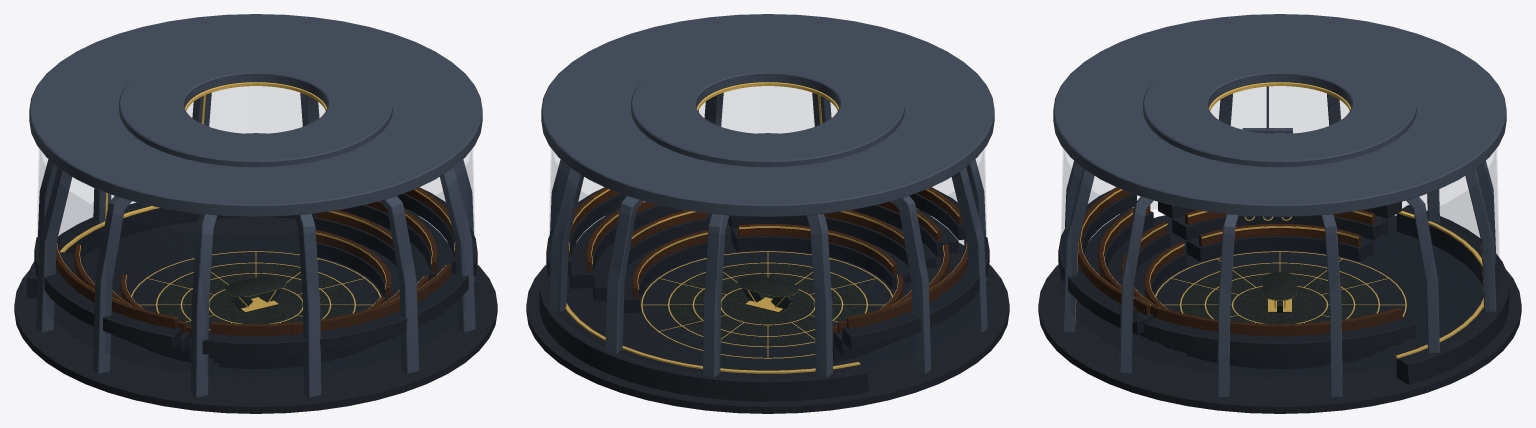
Rendered from apex_forum_room.glb.
3 renders of one model, left to right at view 1: azimuth 30°, elevation 25°; view 2: azimuth 150°, elevation 25°; view 3: azimuth 270°, elevation 25°, orthographic.
Parts seen in each view (by area): view 1: Apex_Maritime_SteelRibs, Apex_Floor_Slate, Apex_Amphitheater_Slate, Apex_Delegate_WalnutDesks, Apex_Floor_ObsidianStage, Apex_Window_Glass, Apex_Architectural_Gold, Apex_Floor_SovereignEmblem, Apex_Table_Obsidian; view 2: Apex_Maritime_SteelRibs, Apex_Amphitheater_Slate, Apex_Floor_Slate, Apex_Delegate_WalnutDesks, Apex_Floor_ObsidianStage, Apex_Architectural_Gold, Apex_Floor_SovereignEmblem, Apex_Window_Glass, Apex_Table_Obsidian; view 3: Apex_Maritime_SteelRibs, Apex_Floor_Slate, Apex_Amphitheater_Slate, Apex_Delegate_WalnutDesks, Apex_Floor_ObsidianStage, Apex_Window_Glass, Apex_Architectural_Gold, Apex_Floor_SovereignEmblem, Apex_Table_Obsidian.
Part boxes in pixels (bbox=[...]): Apex_Maritime_SteelRibs: bbox=[29, 14, 482, 397]; Apex_Floor_Slate: bbox=[14, 217, 497, 413]; Apex_Amphitheater_Slate: bbox=[27, 187, 477, 368]; Apex_Delegate_WalnutDesks: bbox=[56, 187, 455, 338]; Apex_Floor_ObsidianStage: bbox=[157, 263, 354, 331]; Apex_Window_Glass: bbox=[36, 149, 475, 283]; Apex_Architectural_Gold: bbox=[57, 82, 455, 323]; Apex_Floor_SovereignEmblem: bbox=[131, 251, 381, 330]; Apex_Table_Obsidian: bbox=[225, 275, 286, 312]; Apex_Maritime_SteelRibs: bbox=[541, 14, 994, 376]; Apex_Amphitheater_Slate: bbox=[539, 187, 989, 401]; Apex_Floor_Slate: bbox=[526, 222, 1009, 413]; Apex_Delegate_WalnutDesks: bbox=[568, 187, 967, 338]; Apex_Floor_ObsidianStage: bbox=[669, 263, 866, 346]; Apex_Architectural_Gold: bbox=[565, 82, 966, 373]; Apex_Floor_SovereignEmblem: bbox=[641, 251, 892, 358]; Apex_Window_Glass: bbox=[548, 149, 987, 283]; Apex_Table_Obsidian: bbox=[737, 275, 798, 312]; Apex_Maritime_SteelRibs: bbox=[1053, 14, 1506, 396]; Apex_Floor_Slate: bbox=[1038, 215, 1521, 413]; Apex_Amphitheater_Slate: bbox=[1058, 187, 1509, 384]; Apex_Delegate_WalnutDesks: bbox=[1077, 187, 1402, 336]; Apex_Floor_ObsidianStage: bbox=[1181, 263, 1378, 323]; Apex_Window_Glass: bbox=[1060, 149, 1499, 283]; Apex_Architectural_Gold: bbox=[1075, 82, 1484, 358]; Apex_Floor_SovereignEmblem: bbox=[1155, 251, 1406, 323]; Apex_Table_Obsidian: bbox=[1263, 272, 1296, 312].
Size of the model in its own units: 17.8 by 8.48 by 17.8.
Materials: 8 (4 with a texture image).
